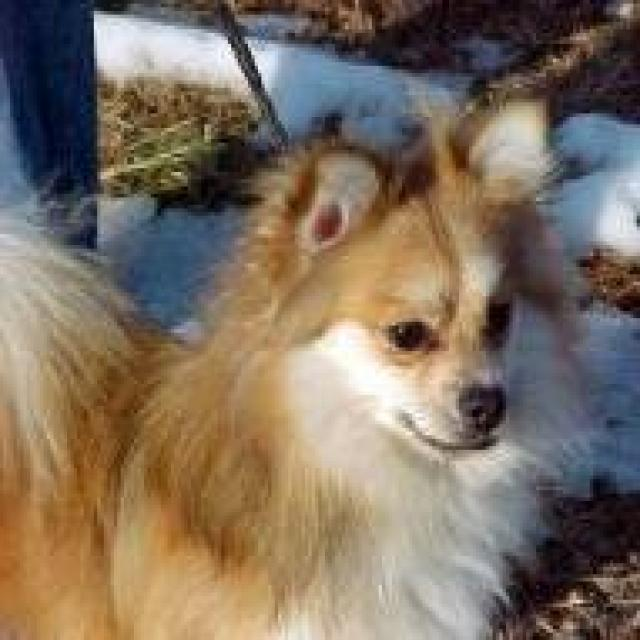dog: (0, 91, 596, 636)
